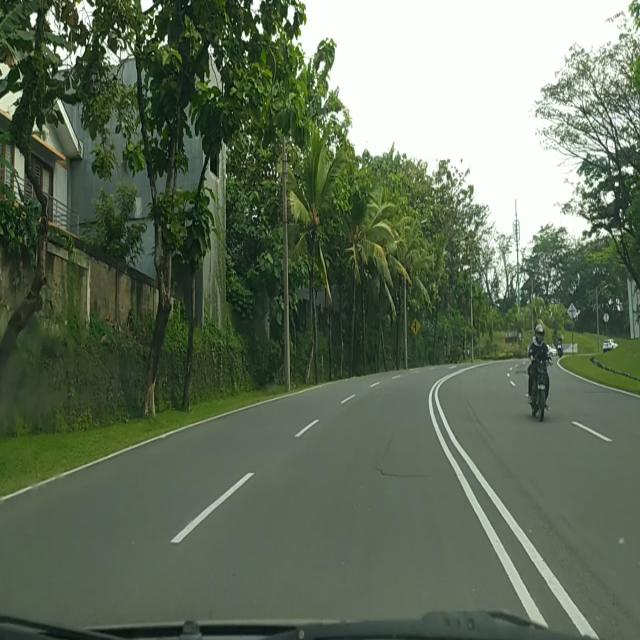Sewer Cover: (374, 457, 444, 475)
